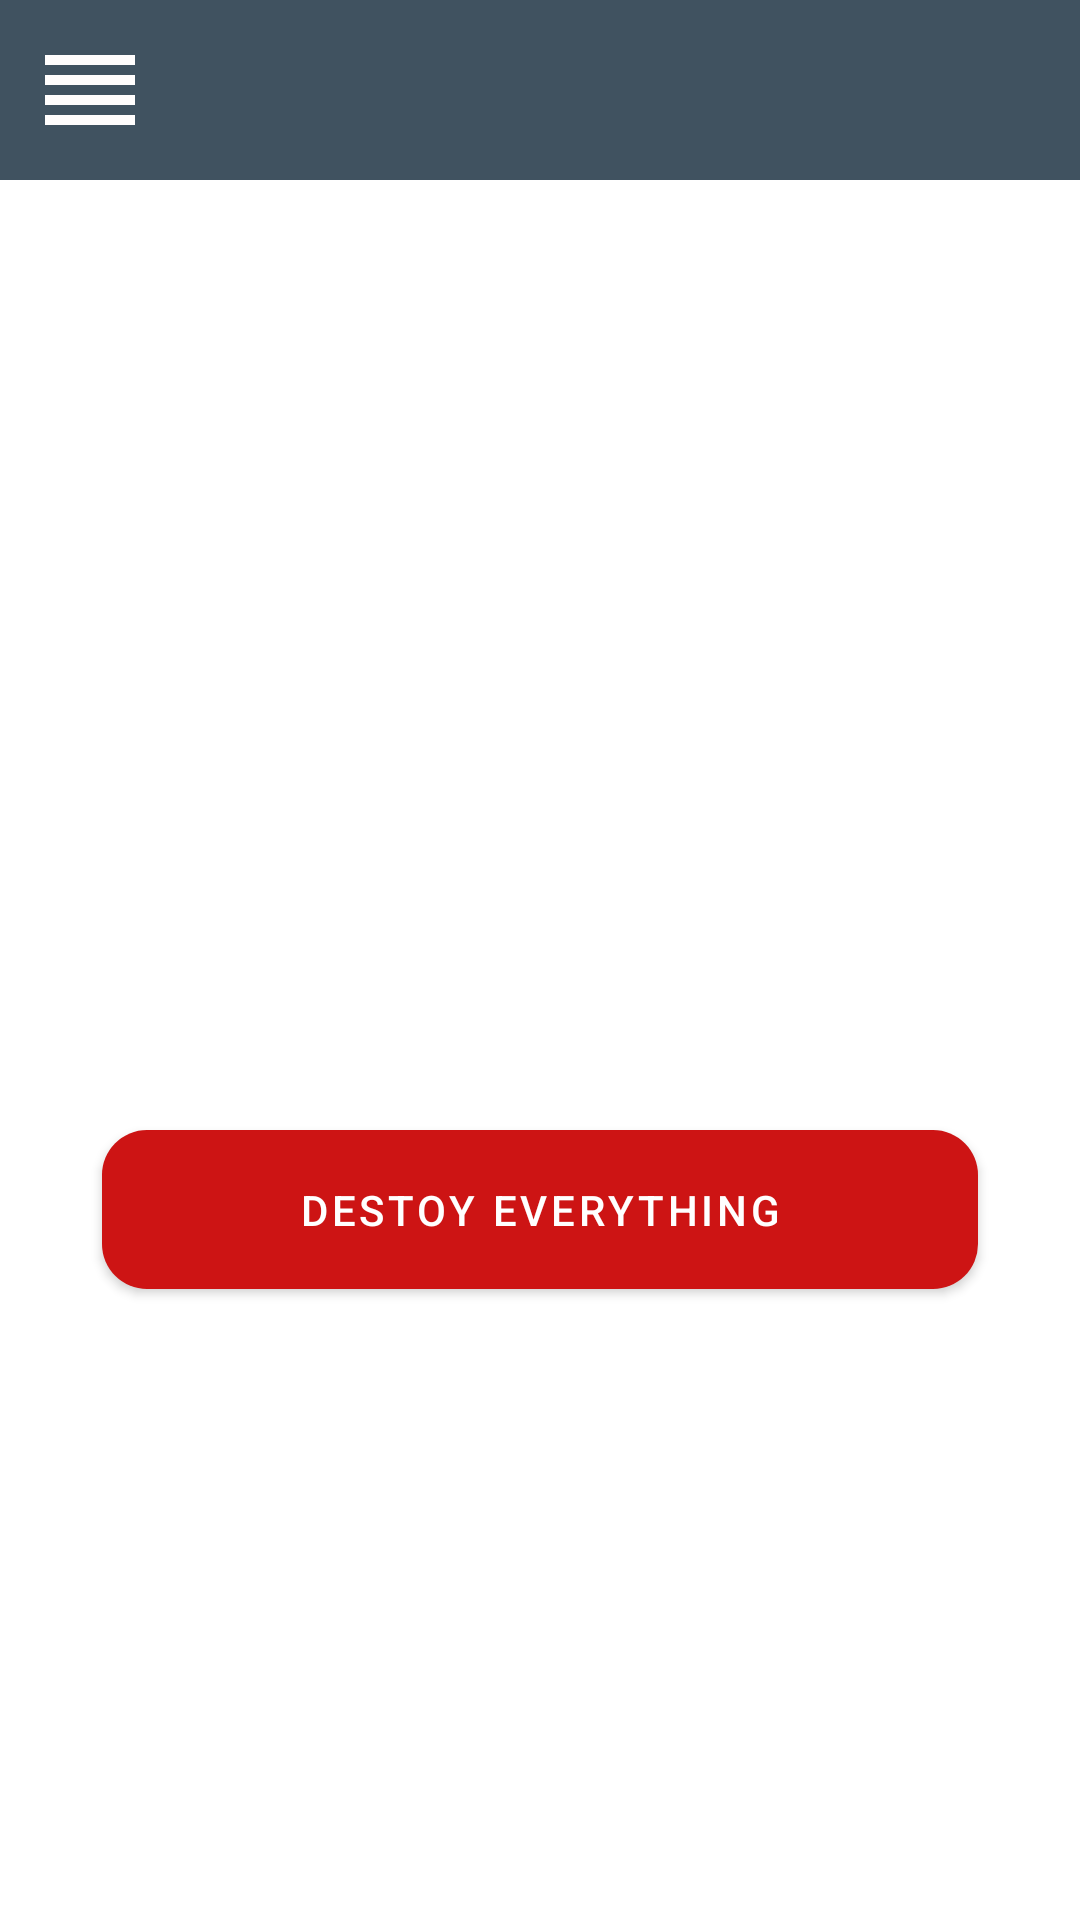

Named icons in this screenshot (1080px×1920px) and their bounding boxes, (x1, y1, x2, y2):
reorder: (45, 55, 135, 125)
